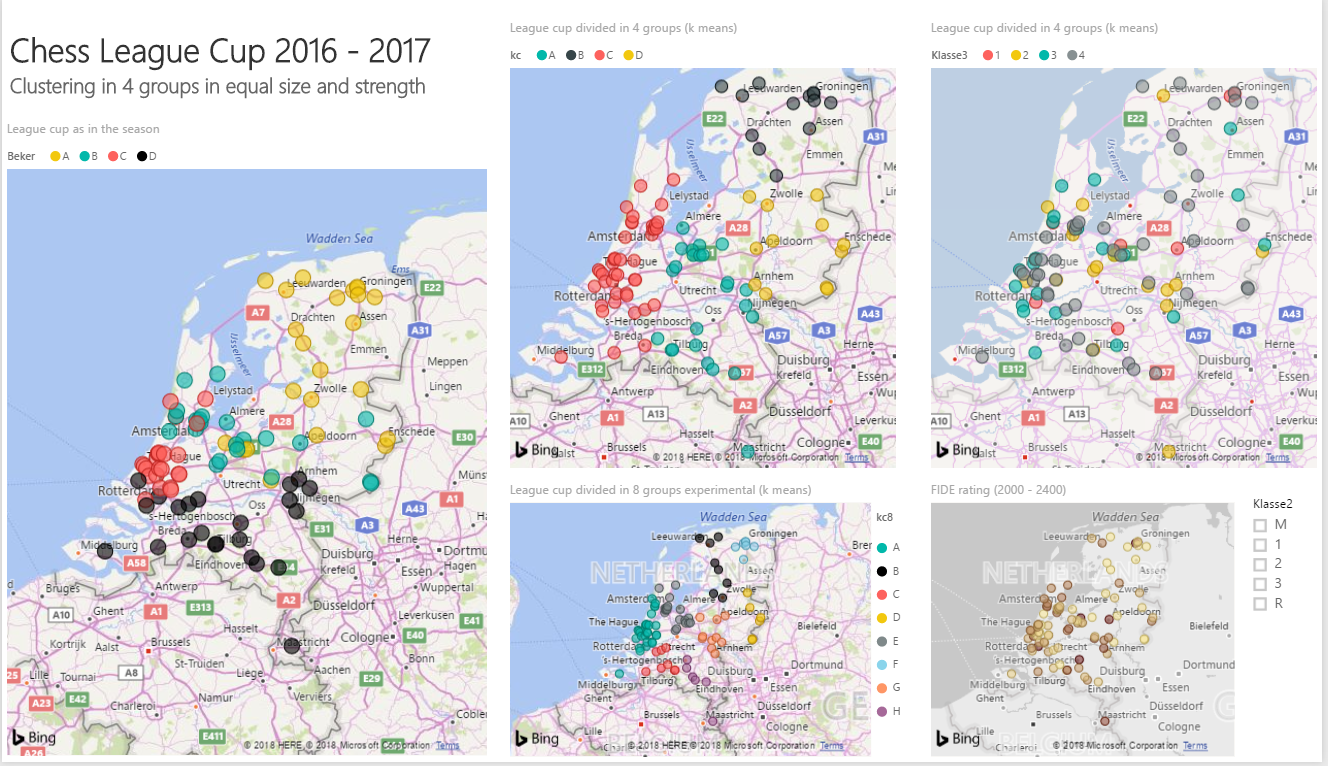

The dashboard page shown, as its layout file describes it:
{"tool":"powerbi","page":{"name":"Initial analysis","canvas":[1280,720],"ordinal":0},"visuals":[{"type":"map","fields":{"X":["temp4_schaakclub20162017.Long"],"Y":["temp4_schaakclub20162017.Lat"],"Series":["ChessLeagueCup2016-2017.kc"]},"box":[488,0,384,440],"z":1},{"type":"map","fields":{"X":["temp4_schaakclub20162017.Long"],"Y":["temp4_schaakclub20162017.Lat"],"Series":["ChessLeagueCup2016-2017.Klasse3"]},"box":[888,0,384,440],"z":1},{"type":"map","fields":{"X":["temp4_schaakclub20162017.Long"],"Y":["temp4_schaakclub20162017.Lat"],"Series":["ChessLeagueCup2016-2017.Beker"]},"box":[0,97.9,475.2,621.1],"z":1},{"type":"map","fields":{"X":["temp4_schaakclub20162017.Long"],"Y":["temp4_schaakclub20162017.Lat"],"Series":["ChessLeagueCup2016-2017.kc8"]},"box":[488,448,408,272],"z":1},{"type":"textbox","box":[2.6,1.7,444.4,80.5],"z":5},{"type":"slicer","fields":{"Values":["ChessLeagueCup.Klasse2"]},"box":[1192,456,88,136],"z":6},{"type":"map","fields":{"Y":["Avg(ChessLeagueCup2016-2017.Lat)"],"X":["Avg(ChessLeagueCup2016-2017.Long)"],"Gradient":["Sum(ChessLeagueCup2016-2017.FIDE)"]},"box":[888,448,304,272],"z":7}]}

Visuals, with their boxes in screenshot pixels (x1, y1, x2, y2), scaled from the page's 1280x720 canvas onto the 1328x766 screenshot:
map - temp4_schaakclub20162017.Long x temp4_schaakclub20162017.Lat: (506,0,905,468)
map - temp4_schaakclub20162017.Long x temp4_schaakclub20162017.Lat: (921,0,1320,468)
map - temp4_schaakclub20162017.Long x temp4_schaakclub20162017.Lat: (0,104,493,765)
map - temp4_schaakclub20162017.Long x temp4_schaakclub20162017.Lat: (506,477,930,765)
textbox: (3,2,464,87)
slicer - ChessLeagueCup.Klasse2: (1237,485,1327,630)
map - Avg(ChessLeagueCup2016-2017.Lat) x Avg(ChessLeagueCup2016-2017.Long): (921,477,1237,765)
